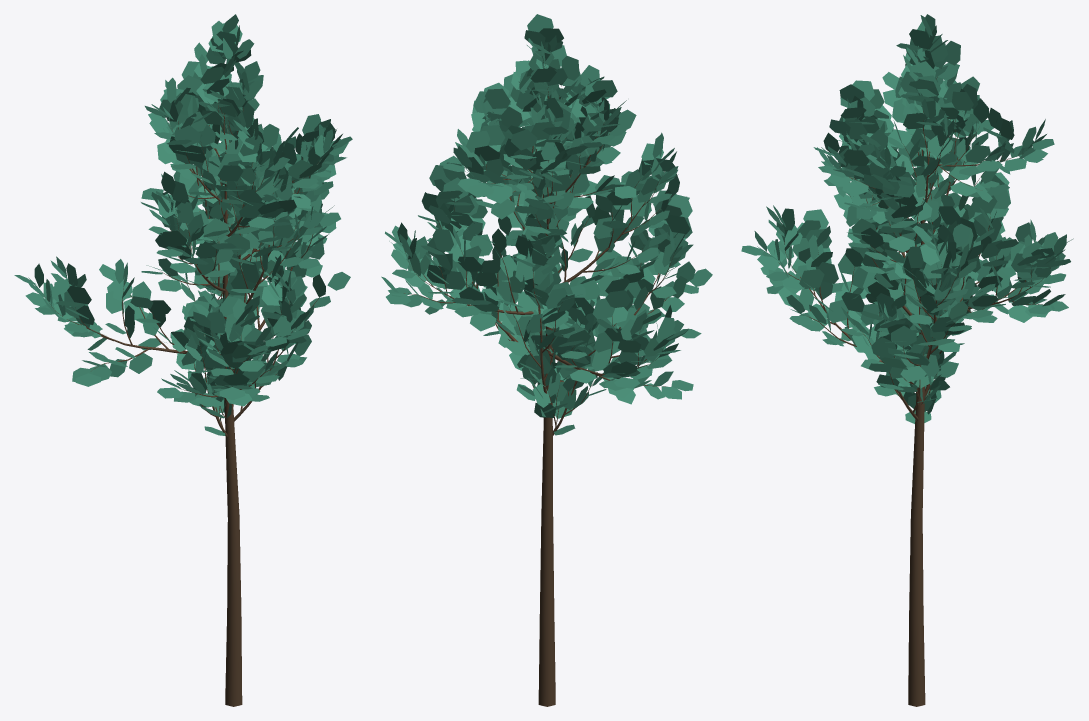
Rendered from sapling_tree.glb.
The picture shows the model from 3 angles, left to right: view 1: azimuth 30°, elevation 25°; view 2: azimuth 150°, elevation 25°; view 3: azimuth 270°, elevation 25°; orthographic projection.
Visible parts, largest first — view 1: tree; view 2: tree; view 3: tree.
Part boxes in pixels (left/top/right/bottom): tree: left=14, top=14, right=352, bottom=706; tree: left=381, top=14, right=712, bottom=706; tree: left=741, top=14, right=1073, bottom=706.
Bounding box in the file's own units: 2.3 × 5.03 × 2.21.
